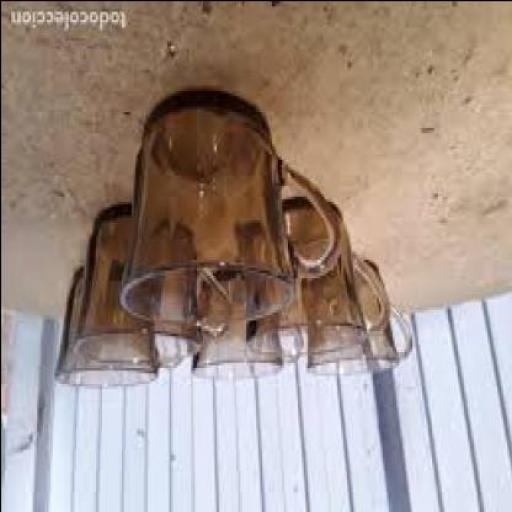glass: (120, 90, 346, 327), (77, 206, 232, 369), (247, 198, 392, 358), (57, 272, 182, 390), (192, 274, 303, 386), (307, 264, 413, 377)
